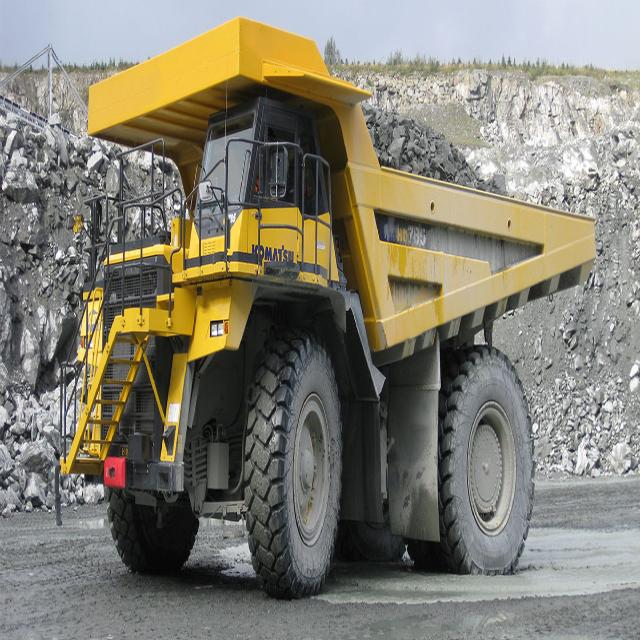dump_truck: (78, 18, 598, 604)
